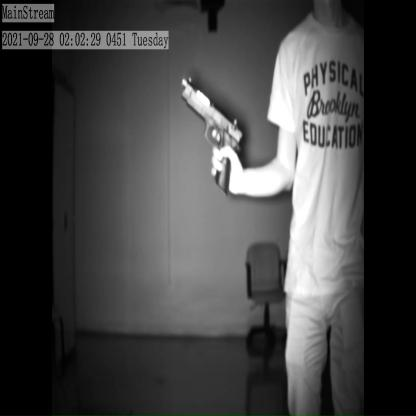weapon: (179, 73, 245, 198)
